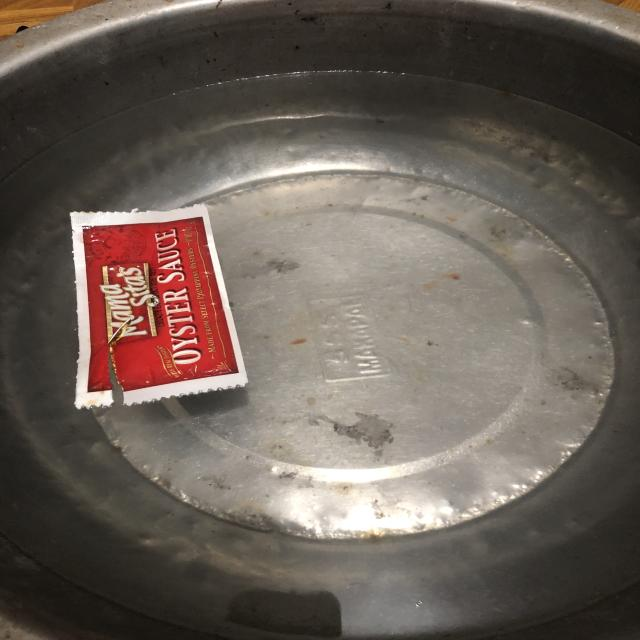Plastic Wrapper: (68, 188, 206, 403)
